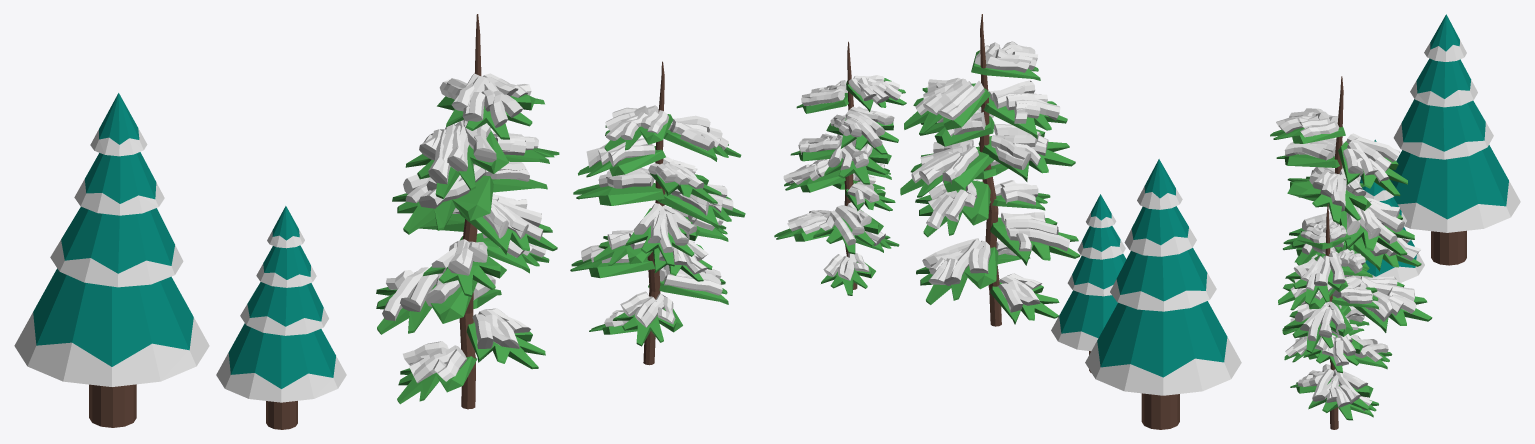
File: Ch_trees.fbx
The picture shows the model from 3 angles, left to right: view 1: azimuth 30°, elevation 25°; view 2: azimuth 150°, elevation 25°; view 3: azimuth 270°, elevation 25°; orthographic projection. The views are drawn at different scales.
Parts seen in each view (by area): view 1: Ch_tree_big_2, Ch_tree_big_1, Ch_tree_small_2, Ch_tree_small_1; view 2: Ch_tree_big_2, Ch_tree_big_1, Ch_tree_small_2, Ch_tree_small_1; view 3: Ch_tree_big_1, Ch_tree_big_2, Ch_tree_small_2, Ch_tree_small_1.
Boxes of the visible parts, x1,y1,x2,y2 form: Ch_tree_big_2: [376, 14, 559, 409]; Ch_tree_big_1: [14, 93, 209, 427]; Ch_tree_small_2: [570, 61, 745, 365]; Ch_tree_small_1: [216, 206, 346, 429]; Ch_tree_big_2: [900, 14, 1080, 326]; Ch_tree_big_1: [1085, 159, 1241, 429]; Ch_tree_small_2: [774, 41, 906, 295]; Ch_tree_small_1: [1051, 194, 1126, 372]; Ch_tree_big_1: [1390, 14, 1520, 265]; Ch_tree_big_2: [1270, 76, 1432, 362]; Ch_tree_small_2: [1278, 204, 1392, 429]; Ch_tree_small_1: [1351, 139, 1424, 282].
Bounding box in the file's own units: 1175 × 686 × 536.
